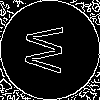W: (25, 25, 73, 74)
